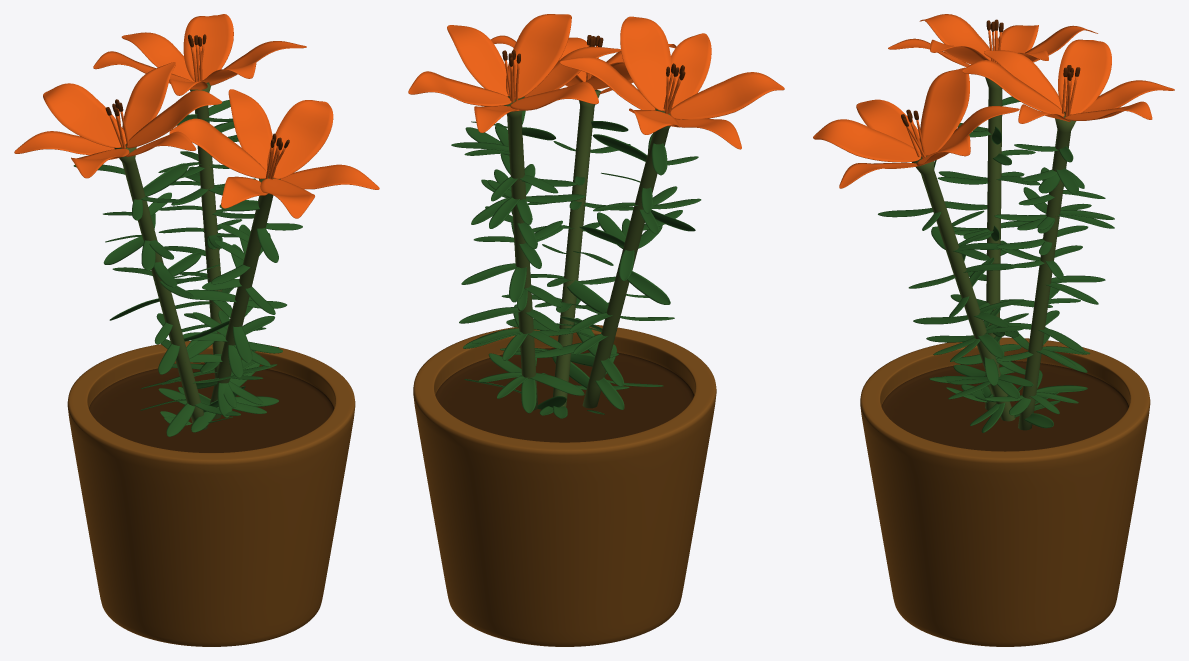
File: lilium_brunello.fbx
3 views of the same model, side by side, from view 1: azimuth 30°, elevation 25°; view 2: azimuth 150°, elevation 25°; view 3: azimuth 270°, elevation 25° (orthographic). The views are drawn at different scales.
Visible parts, largest first — view 1: Cylinder.007, Cylinder.007|Plane|Dupli|3; view 2: Cylinder.007, Cylinder.007|Plane|Dupli|5, Cylinder.007|Plane|Dupli|20, Cylinder.007|Plane|Dupli|115; view 3: Cylinder.007.
Part boxes in pixels (x1,y1,x2,y2): Cylinder.007: [14, 14, 379, 646]; Cylinder.007|Plane|Dupli|3: [143, 163, 188, 196]; Cylinder.007: [408, 14, 784, 646]; Cylinder.007|Plane|Dupli|5: [567, 280, 608, 313]; Cylinder.007|Plane|Dupli|20: [627, 271, 670, 304]; Cylinder.007|Plane|Dupli|115: [530, 373, 584, 395]; Cylinder.007: [813, 14, 1174, 646].
Size of the model in its own units: 131 by 220 by 133.
